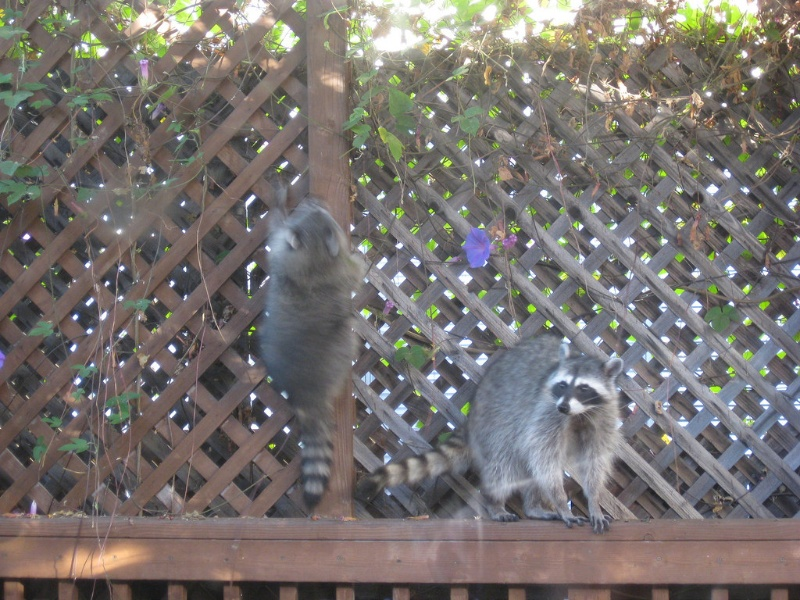raccoon: (365, 332, 623, 536), (260, 166, 361, 496)
